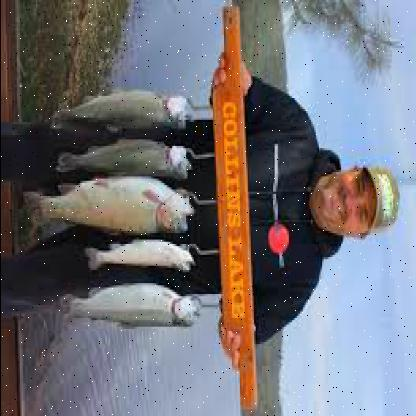fish: (23, 175, 199, 235), (48, 86, 190, 134), (58, 280, 205, 326), (56, 136, 193, 181), (83, 236, 195, 272)
